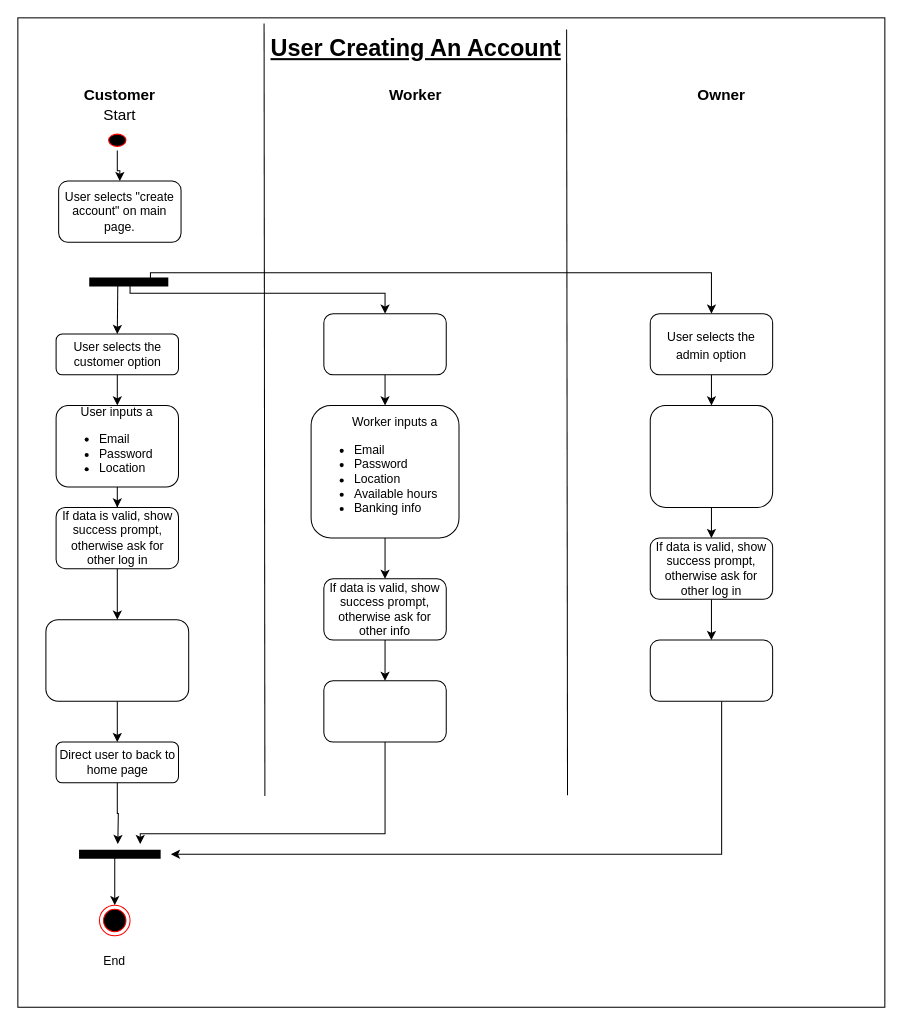
The diagram is 903 pixels wide and 1025 high, and some of its shapes have lost their labels. Each missing label, with the centre of its shape:
"Allow access to ban accounts/ view jobs/ etc" goes at [711,670].
"Direct worker to page telling them they will be notified of jobs via email" goes at [384,711].
"User can enter payment info during account creating, or later in process" goes at [117,660].
"User inputs a Special Key Email Password Banking info" goes at [711,455].
"User selects the worker option" goes at [384,344].
